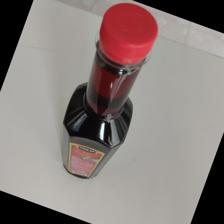Namngu: (62, 2, 159, 183)
